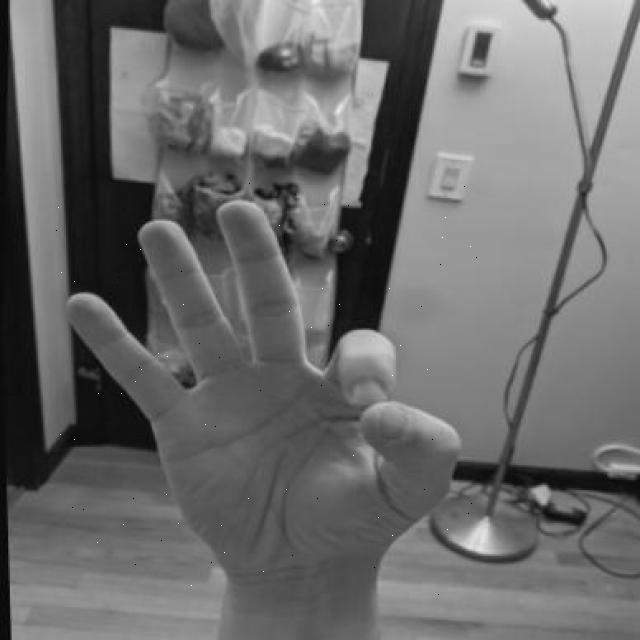F: (40, 182, 481, 600)
